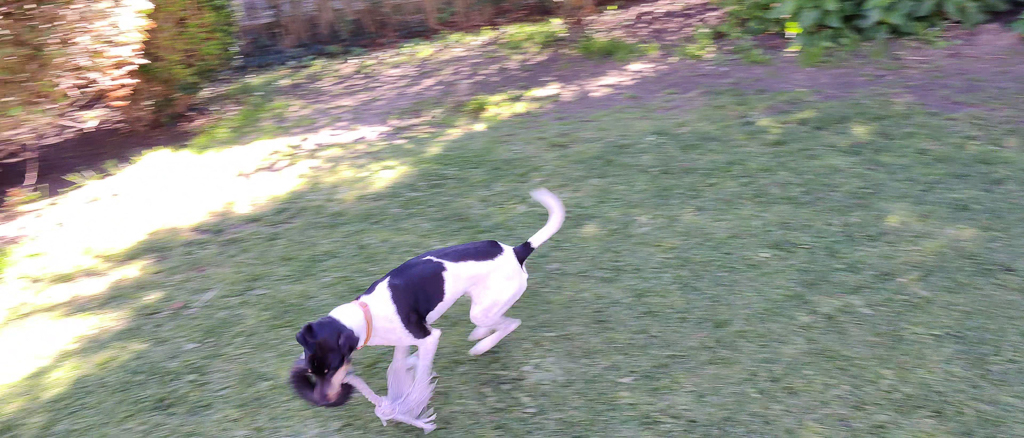Dog: (288, 181, 577, 428)
